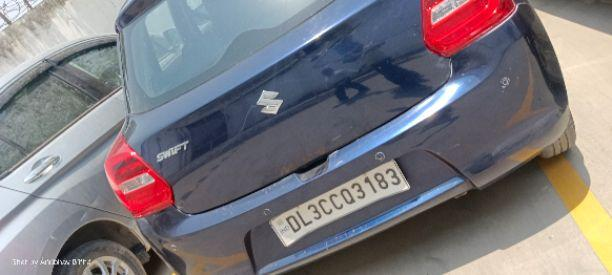license_plate: (267, 157, 410, 247)
